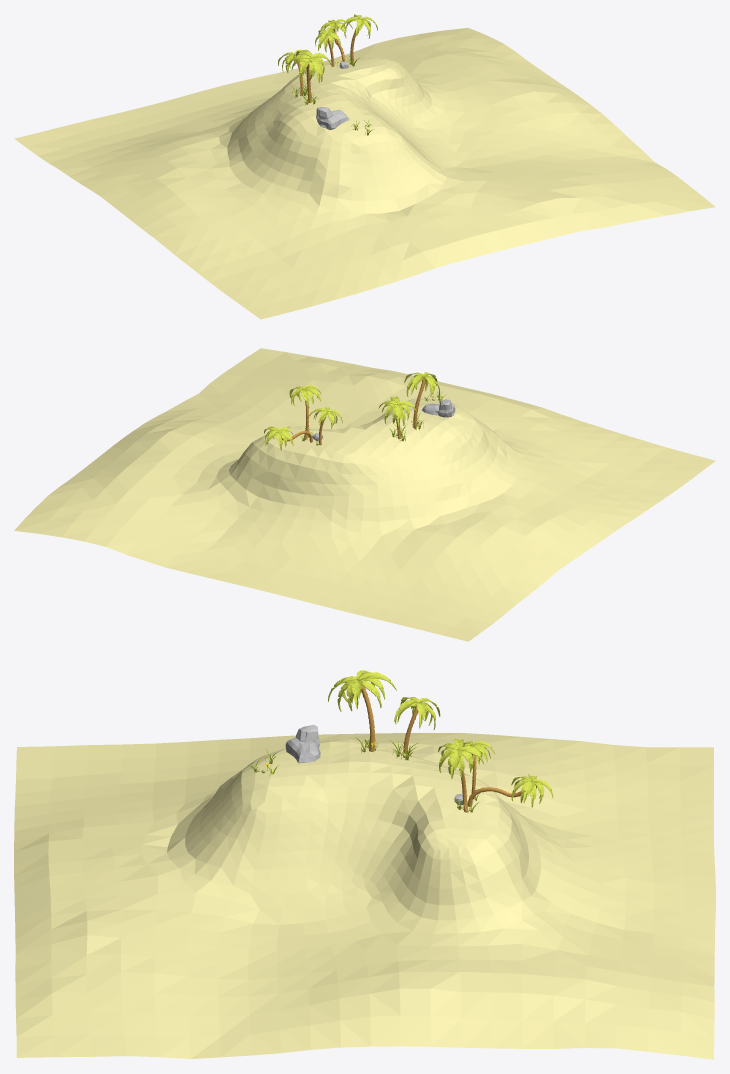
File: island_cutted.fbx
3 views of the same model, one above another, from view 1: azimuth 30°, elevation 25°; view 2: azimuth 150°, elevation 25°; view 3: azimuth 270°, elevation 25° (orthographic). The views are drawn at different scales.
Parts seen in each view (by area): view 1: Cube_001, Cylinder_002, Cylinder_000, Cube_013; view 2: Cube_001, Cylinder_002, Cylinder_000; view 3: Cube_001, Cylinder_002, Cylinder_000, Cube_013.
Boxes of the visible parts, bbox=[...] form: Cube_001: bbox=[14, 28, 715, 319]; Cylinder_002: bbox=[315, 14, 377, 66]; Cylinder_000: bbox=[278, 49, 330, 102]; Cube_013: bbox=[316, 107, 349, 129]; Cube_001: bbox=[14, 348, 715, 641]; Cylinder_002: bbox=[264, 385, 342, 450]; Cylinder_000: bbox=[378, 372, 439, 439]; Cube_001: bbox=[14, 733, 715, 1059]; Cylinder_002: bbox=[438, 738, 553, 812]; Cylinder_000: bbox=[328, 670, 440, 757]; Cube_013: bbox=[285, 724, 320, 763].
Bounding box in the file's own units: 33225 × 9267 × 31092.
